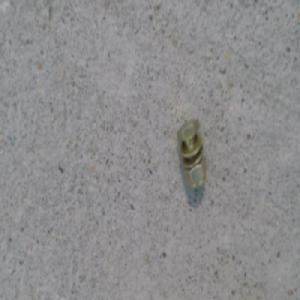BoltNutSet: (176, 117, 205, 188)
